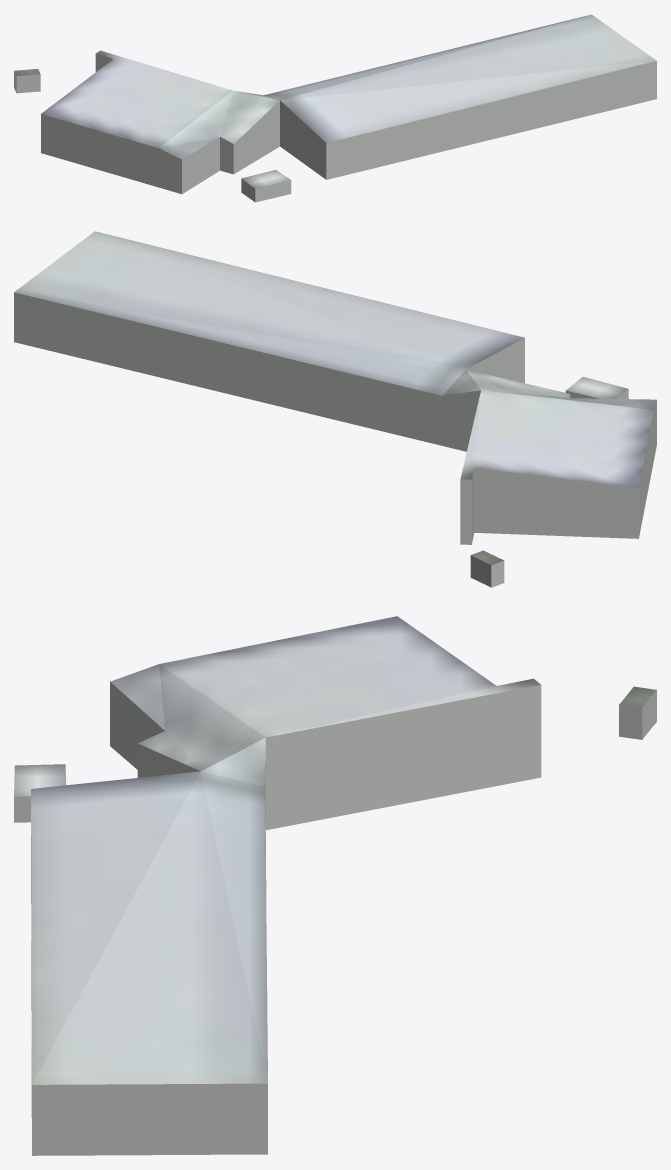
The model's file is LFSB_1_-5.glb.
3 views of the same model, one above another, from view 1: azimuth 30°, elevation 25°; view 2: azimuth 150°, elevation 25°; view 3: azimuth 270°, elevation 25° (orthographic). The views are drawn at different scales.
Parts seen in each view (by area): view 1: building_BATIMENT0000000358877839, building_BATIMENT0000000358877834, building_BATIMENT0000000338244665; view 2: building_BATIMENT0000000358877839, building_BATIMENT0000000338244665, building_BATIMENT0000000358877834; view 3: building_BATIMENT0000000358877839, building_BATIMENT0000000358877834, building_BATIMENT0000000338244665.
Boxes of the visible parts, left/top/right/bottom form: building_BATIMENT0000000358877839: left=41, top=14, right=656, bottom=194; building_BATIMENT0000000358877834: left=241, top=169, right=291, bottom=202; building_BATIMENT0000000338244665: left=14, top=68, right=40, bottom=93; building_BATIMENT0000000358877839: left=14, top=231, right=656, bottom=544; building_BATIMENT0000000338244665: left=470, top=550, right=504, bottom=587; building_BATIMENT0000000358877834: left=565, top=377, right=628, bottom=398; building_BATIMENT0000000358877839: left=31, top=616, right=541, bottom=1155; building_BATIMENT0000000358877834: left=14, top=764, right=66, bottom=822; building_BATIMENT0000000338244665: left=619, top=686, right=656, bottom=739.
Size of the model in its own units: 188 by 17.7 by 109.
2 materials, 1 textured.
